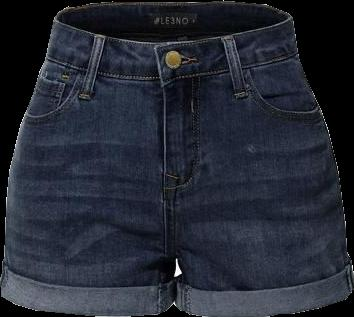Hemline: (176, 290, 353, 316), (0, 293, 174, 316)
Pantleg: (154, 1, 353, 316), (0, 2, 176, 315)
Waistline: (43, 50, 299, 83), (53, 14, 292, 46)
